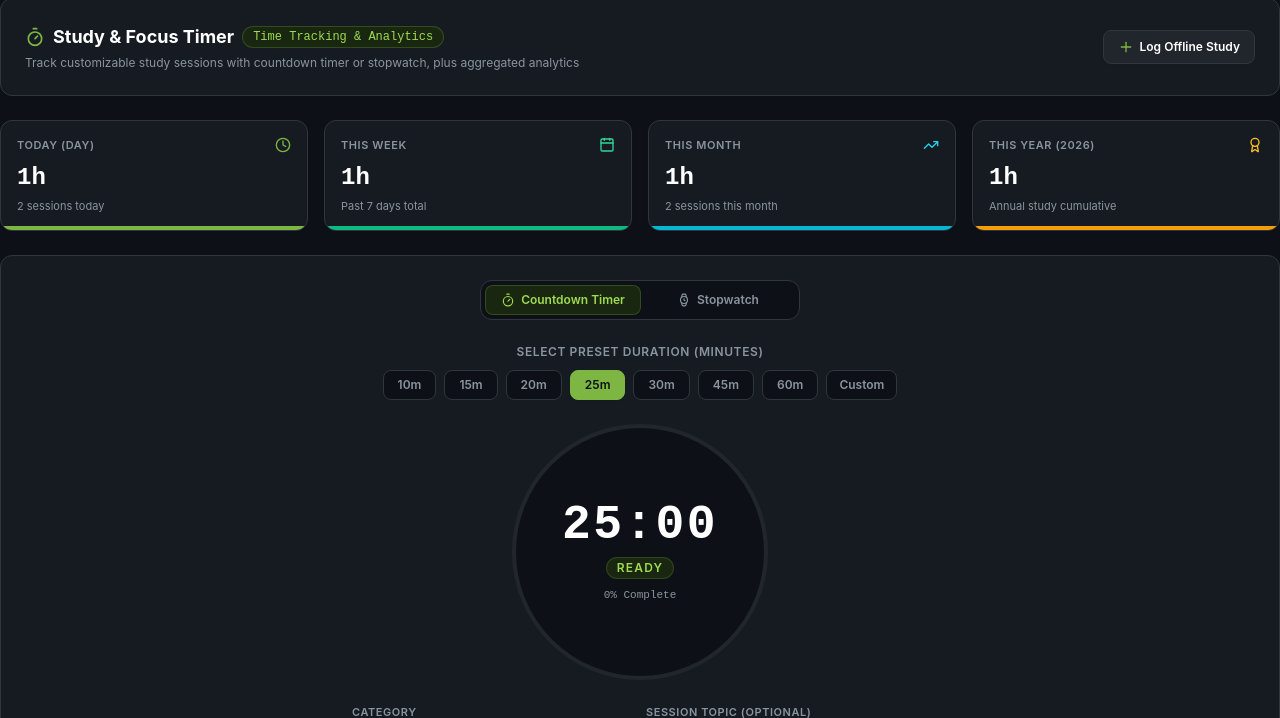
FocusTimer Component › switches between countdown timer and stopwatch modes
Check: the text "Select Preset Duration (Minutes)" is shown, box x1=516 y1=344 x2=764 y2=359
Check: the text "25:00" is shown, box x1=562 y1=501 x2=718 y2=549
// Click Stopwatch tab
Click the button "Stopwatch". click: (718, 300)
box: x1=641 y1=286 x2=795 y2=314
(page scrolled)
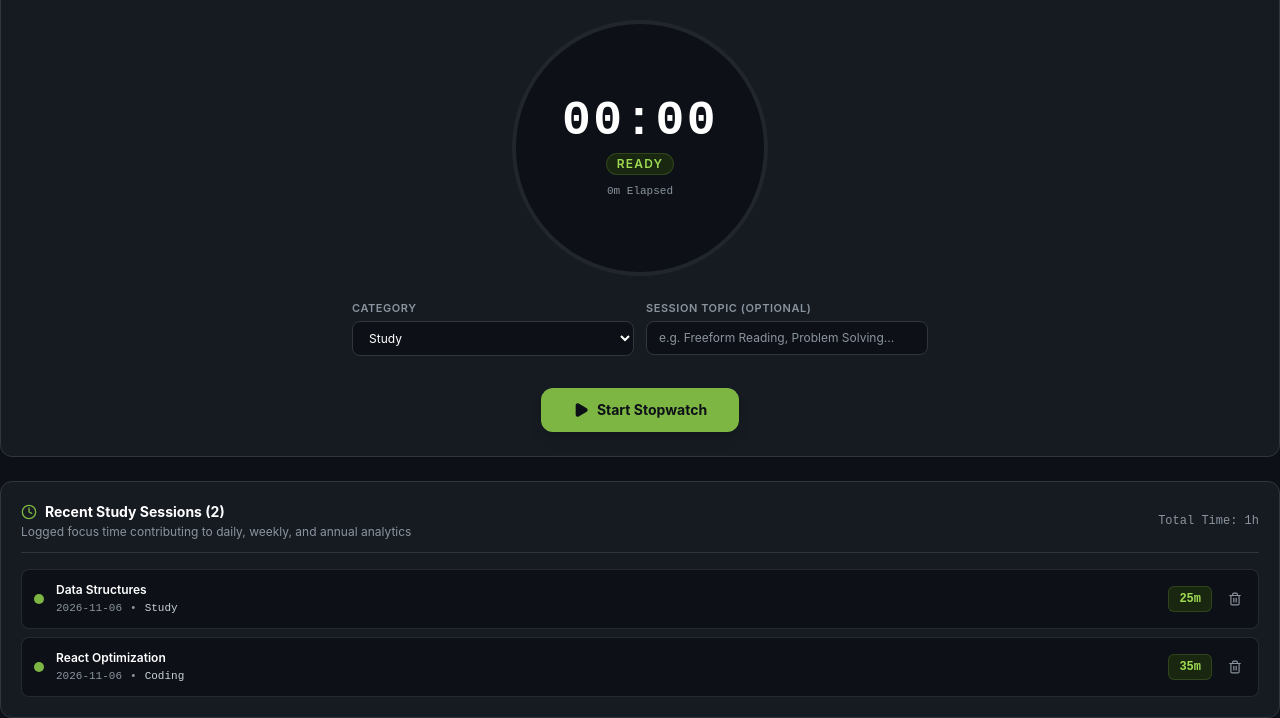
Check: the text "00:00" is shown, box x1=562 y1=97 x2=718 y2=145
Check: the button "Start Stopwatch" is shown
// Click Start Stopwatch
Click the button "Start Stopwatch". click: (640, 410)
box: x1=541 y1=388 x2=739 y2=432
(page scrolled)
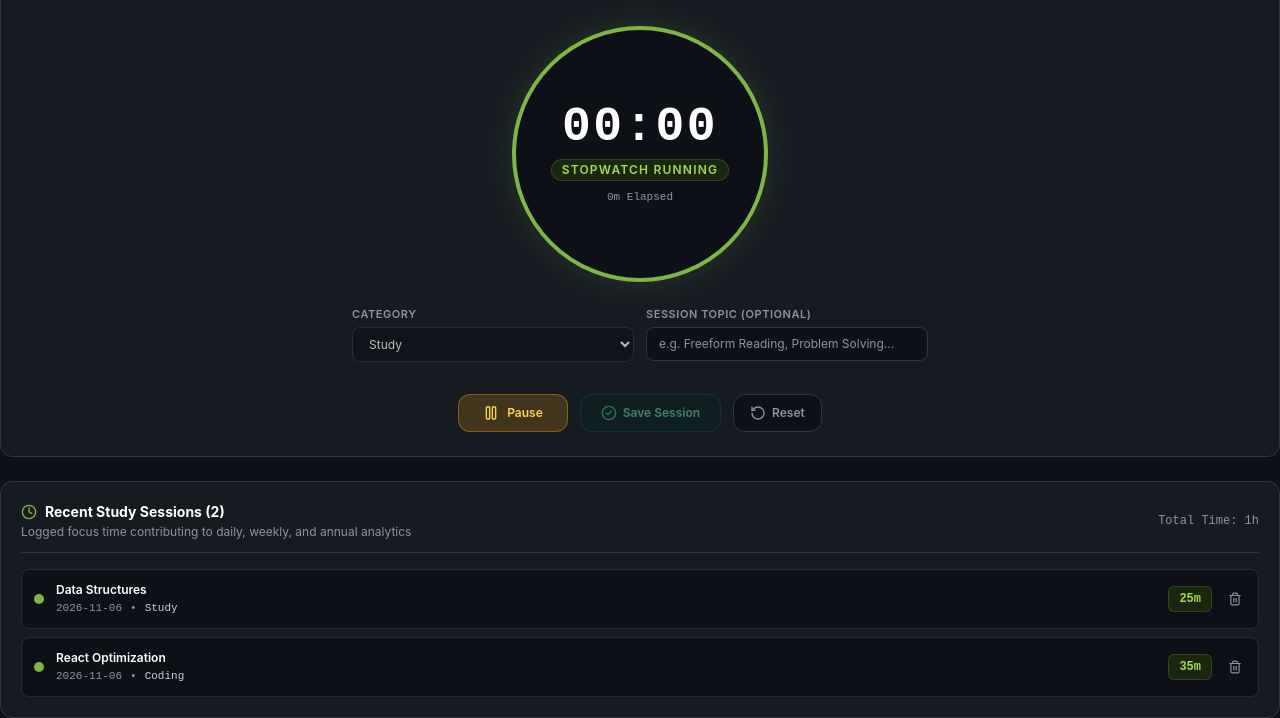
Check: the button "Pause" is shown, box x1=458 y1=394 x2=568 y2=432
Check: the button "Save Session" is shown, box x1=580 y1=394 x2=721 y2=432
Check: the button "Reset" is shown
// Reset Stopwatch
Click the button "Reset". click: (777, 412)
box: x1=733 y1=394 x2=822 y2=432
(page scrolled)
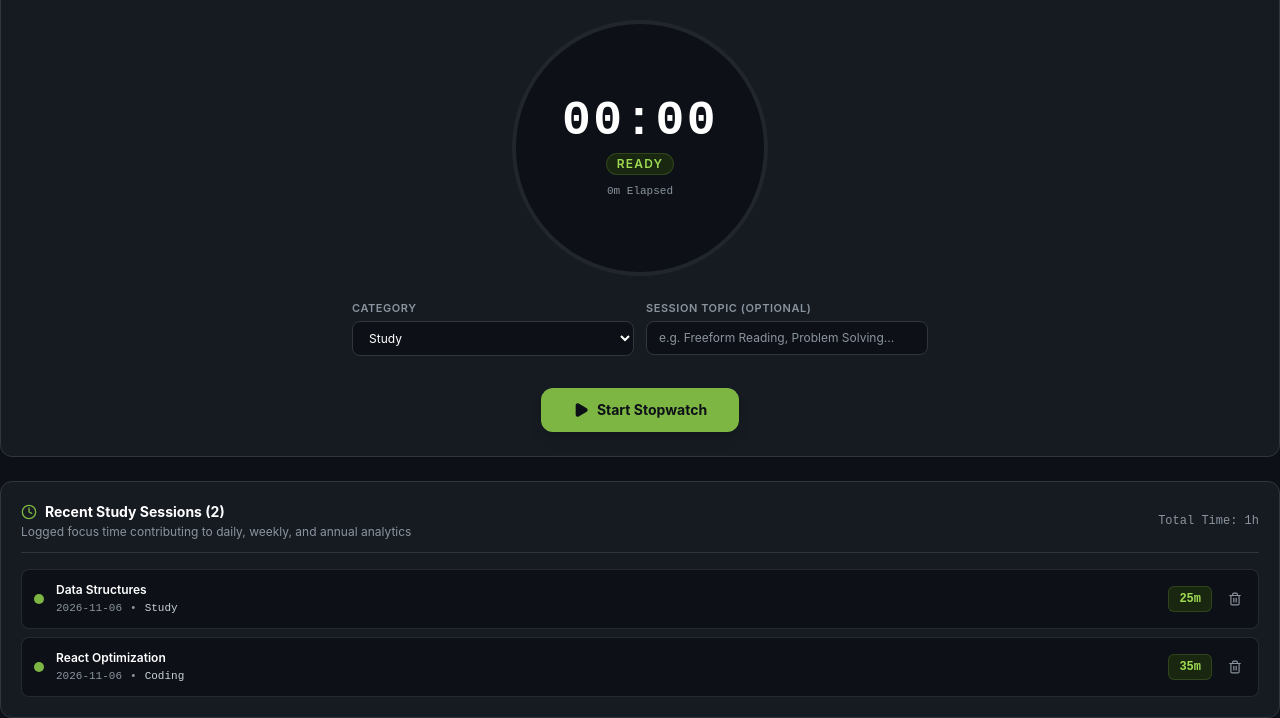
Check: the button "Start Stopwatch" is shown, box x1=541 y1=388 x2=739 y2=432
